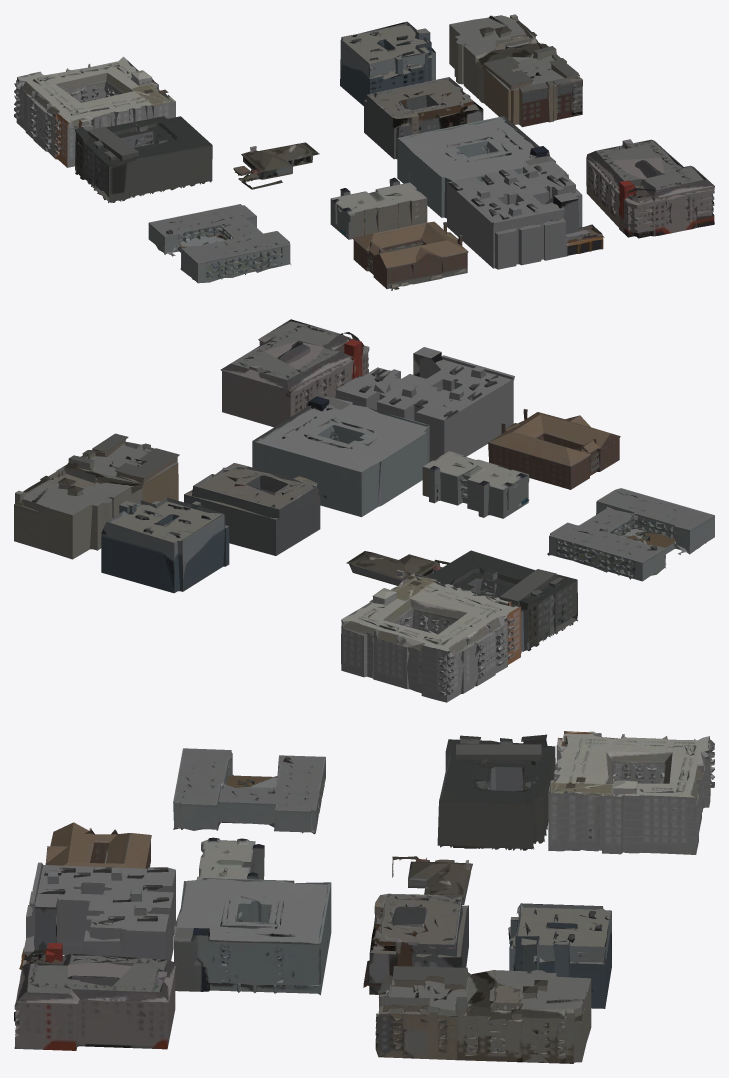
Rendered from t_-4_-2.coat.glb.
3 views of the same model, one above another, from view 1: azimuth 30°, elevation 25°; view 2: azimuth 150°, elevation 25°; view 3: azimuth 270°, elevation 25° (orthographic). The views are drawn at different scales.
Visible parts, largest first — view 1: far; view 2: far; view 3: far.
Boxes of the visible parts, x1=… form: far: x1=14, y1=14, x2=714, y2=290; far: x1=14, y1=319, x2=714, y2=702; far: x1=14, y1=731, x2=714, y2=1063.
Size of the model in its own units: 279 by 30.6 by 286.
1 material, 1 textured.
